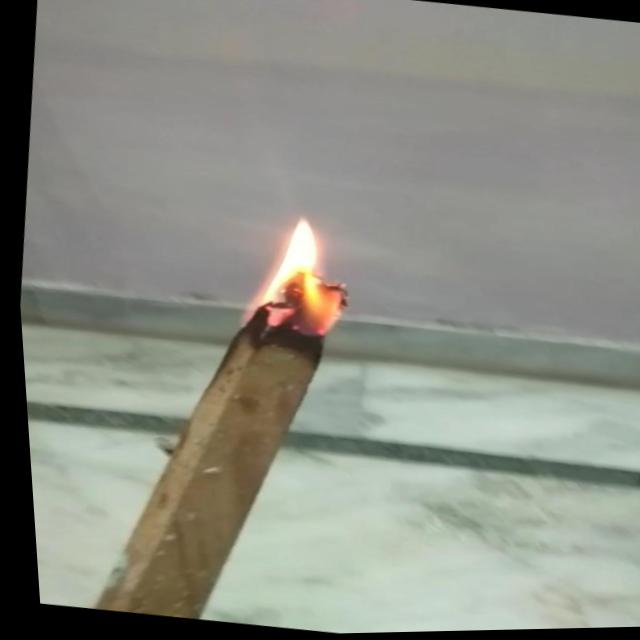fire: (226, 207, 367, 339)
